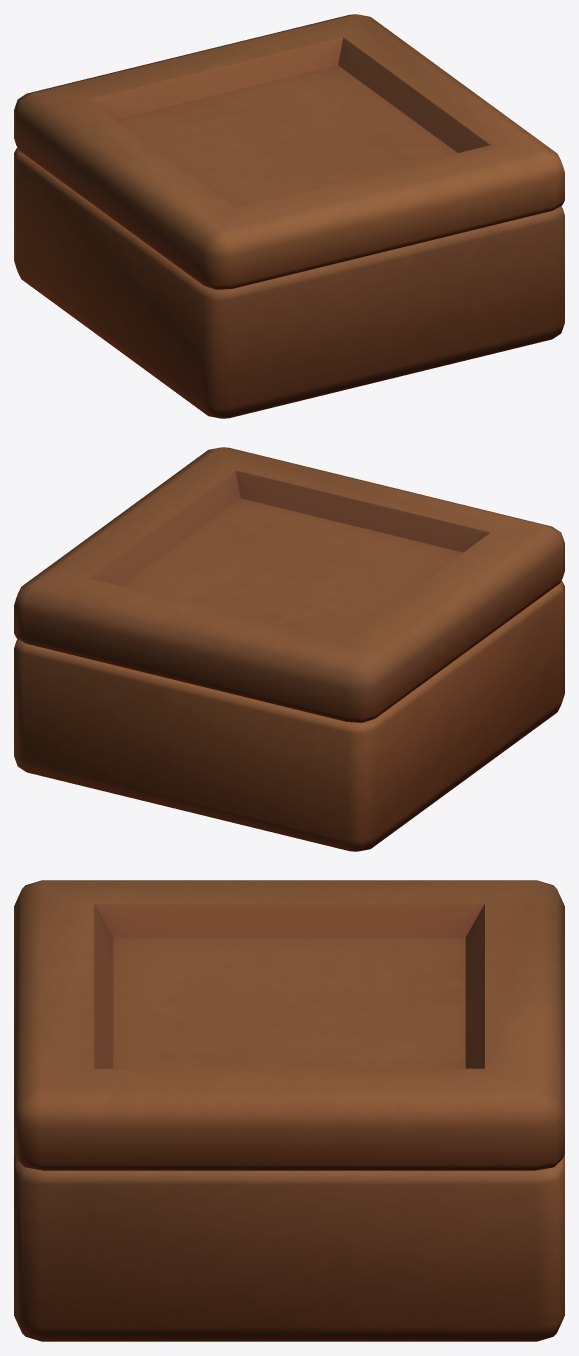
The model's file is IngredientsContainer.fbx.
3 renders of one model, top to bottom at view 1: azimuth 30°, elevation 25°; view 2: azimuth 150°, elevation 25°; view 3: azimuth 270°, elevation 25°, orthographic. The views are drawn at different scales.
Parts seen in each view (by area): view 1: IngredientsContainer.Lid, IngredientsContainer.Base; view 2: IngredientsContainer.Lid, IngredientsContainer.Base; view 3: IngredientsContainer.Lid, IngredientsContainer.Base.
Boxes of the visible parts, x1,y1,x2,y2 form: IngredientsContainer.Lid: (14, 14, 564, 289); IngredientsContainer.Base: (14, 147, 564, 418); IngredientsContainer.Lid: (14, 447, 564, 722); IngredientsContainer.Base: (14, 580, 564, 851); IngredientsContainer.Lid: (14, 880, 564, 1170); IngredientsContainer.Base: (14, 1153, 564, 1341).
Size of the model in its own units: 100 by 50 by 100.
